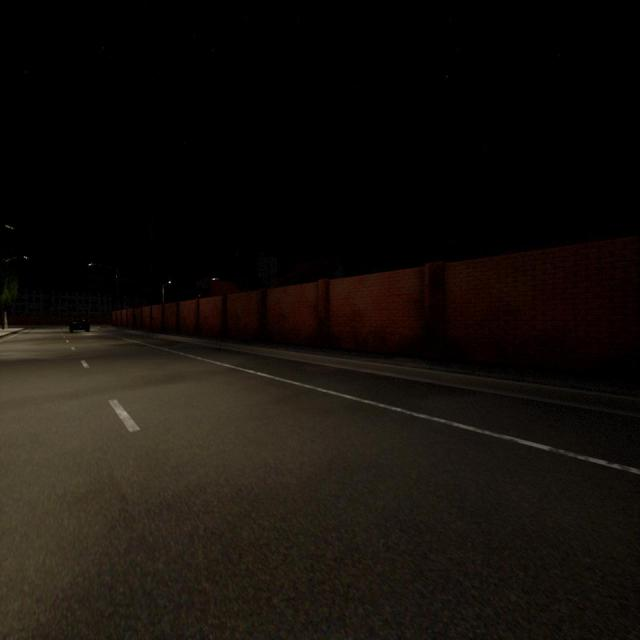Vehicle: (70, 317, 89, 333)
